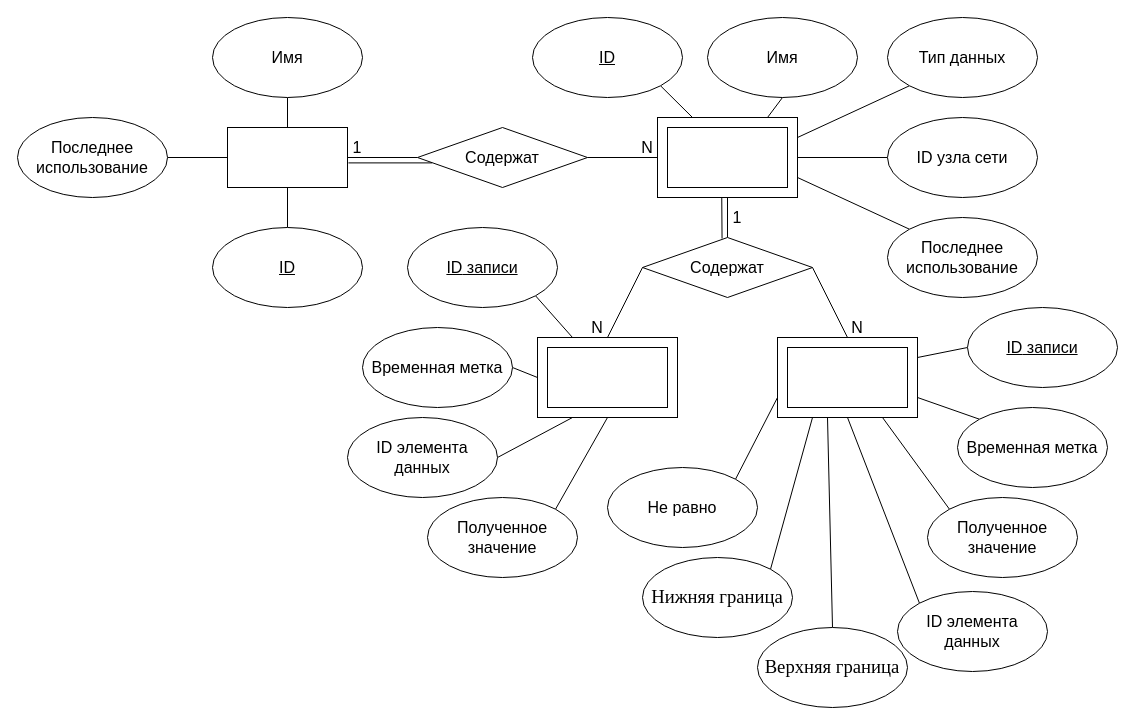
The diagram is 1135 pixels wide and 725 high, and some of its shapes have lost their labels. The centre of each missing label's shape, as x and y in pixels:
Значения триггеров: point 847,377
Полученные данные: point 607,377
Узлы сети: point 287,157
Элементы данных: point 727,157
